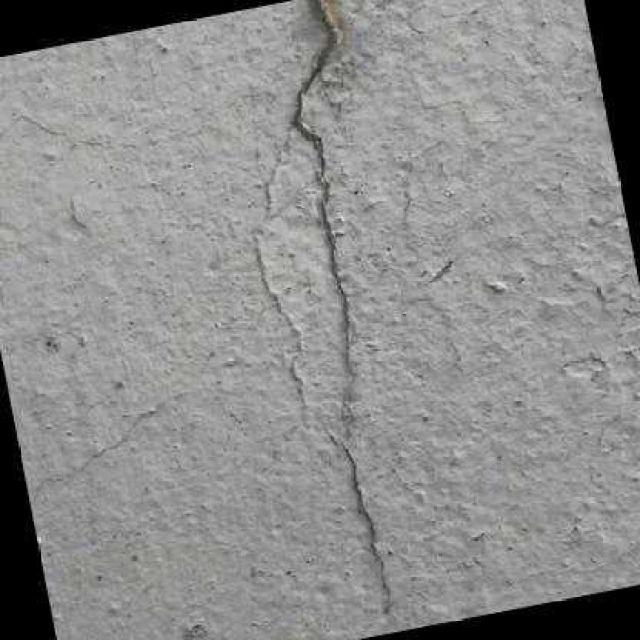D00: (290, 0, 356, 371), (28, 382, 194, 510), (327, 428, 392, 610)
